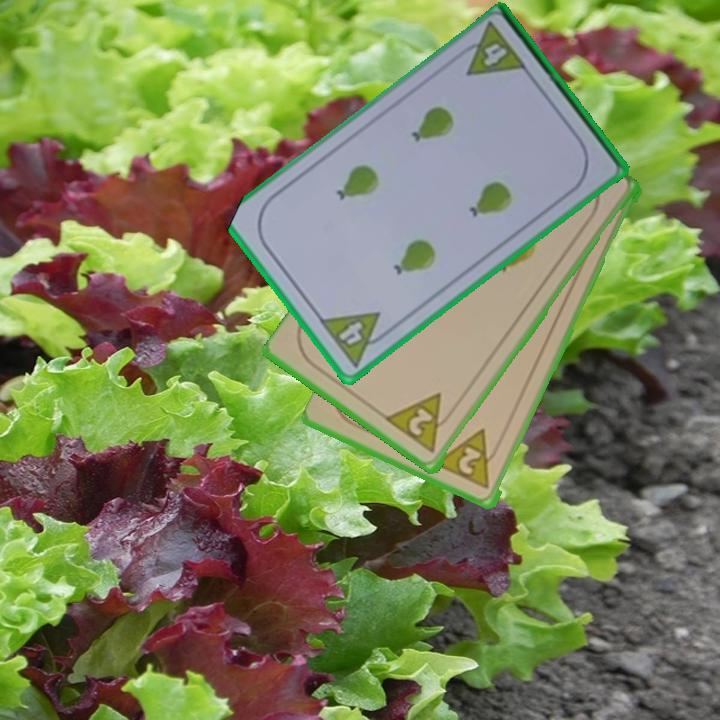2p: (383, 390, 458, 457), (433, 425, 504, 493)
4p: (316, 308, 396, 371), (452, 20, 530, 80)
